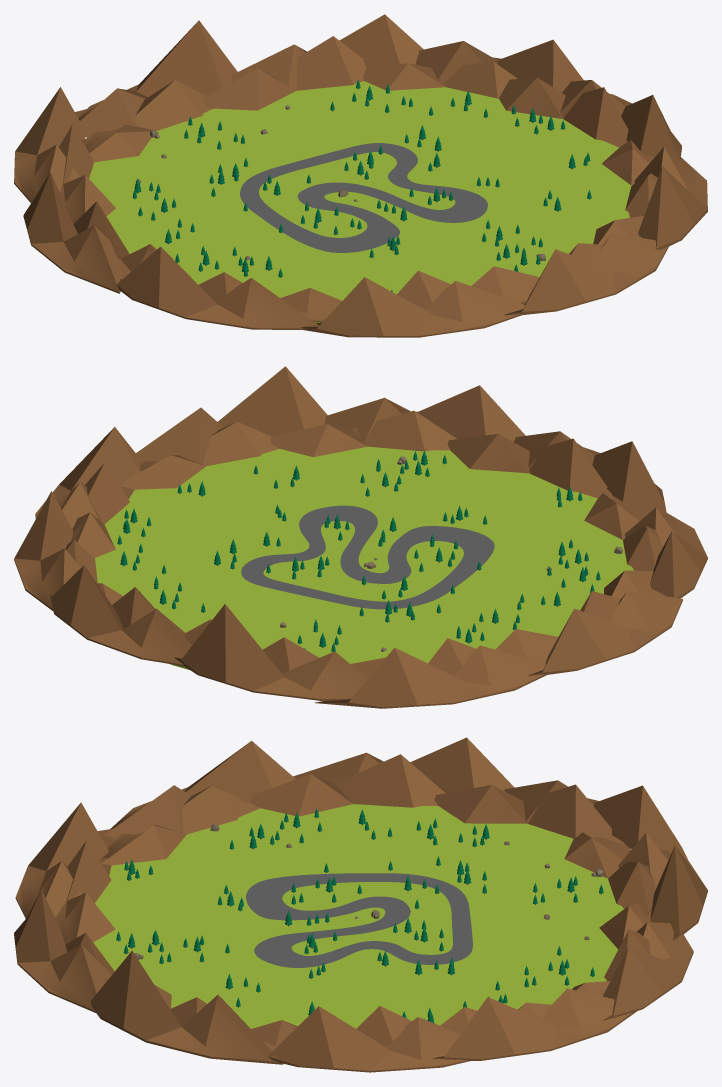
The model's file is map2.fbx.
3 renders of one model, top to bottom at view 1: azimuth 30°, elevation 25°; view 2: azimuth 150°, elevation 25°; view 3: azimuth 270°, elevation 25°, orthographic. The views are drawn at different scales.
Parts seen in each view (by area): view 1: Cylinder, Curve, pCube49.014, pCube49.013, pCube49.015, pCube49.020, pCube49.012, pCube49.002, pCube49.016, pCube49.004, pCube49.011, pCube49.001 (+10 smaller); view 2: Cylinder, Curve, pCube49.020, pCube49.011, pCube49.016, pCube49.012, pCube49.019, pCube49.007, pCube49.015, pCube49.006, pCube49.018, pCube49.005 (+10 smaller); view 3: Cylinder, Curve, pCube49.016, pCube49.017, pCube49.018, pCube49.009, pCube49.010, pCube49.015, pCube49.013, pCube49.019, pCube49.014, pCube49.008 (+10 smaller).
Boxes of the visible parts, box(x1,y1,x2,y2) form: Cylinder: box(89, 81, 631, 323); Curve: box(240, 143, 487, 252); pCube49.014: box(300, 277, 525, 337); pCube49.013: box(117, 246, 318, 329); pCube49.015: box(505, 233, 668, 315); pCube49.020: box(78, 20, 237, 137); pCube49.012: box(23, 172, 121, 293); pCube49.002: box(202, 36, 366, 110); pCube49.016: box(634, 146, 707, 249); pCube49.004: box(499, 77, 628, 147); pCube49.011: box(14, 87, 86, 202); pCube49.001: box(84, 80, 212, 162); Cylinder: box(95, 446, 633, 669); Curve: box(241, 505, 494, 609); pCube49.020: box(174, 604, 367, 700); pCube49.011: box(314, 645, 546, 708); pCube49.016: box(136, 366, 327, 464); pCube49.012: box(528, 591, 682, 675); pCube49.019: box(50, 565, 191, 666); pCube49.007: box(447, 433, 613, 498); pCube49.015: box(324, 385, 525, 442); pCube49.006: box(270, 410, 456, 457); pCube49.018: box(14, 491, 80, 610); pCube49.005: box(123, 421, 279, 489); Cylinder: box(93, 804, 623, 1028); Curve: box(246, 873, 472, 967); pCube49.016: box(90, 950, 283, 1064); pCube49.017: box(267, 1006, 469, 1072); pCube49.018: box(433, 988, 636, 1060); pCube49.009: box(249, 754, 445, 816); pCube49.010: box(434, 784, 625, 845); pCube49.015: box(14, 889, 111, 1012); pCube49.013: box(104, 741, 295, 837); pCube49.019: box(603, 922, 693, 1020); pCube49.014: box(15, 802, 113, 918); pCube49.008: box(101, 786, 260, 865).
Size of the model in its own units: 12510 by 1542 by 12015.
